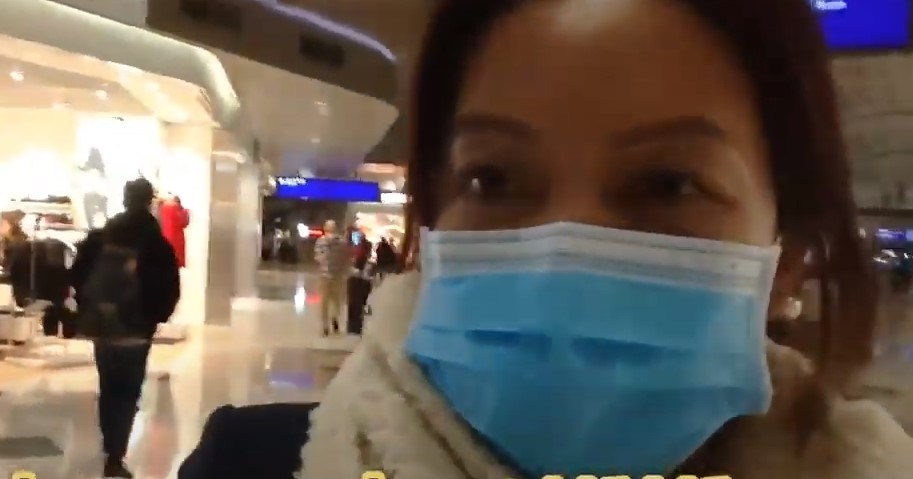face_with_mask: (399, 3, 828, 476)
